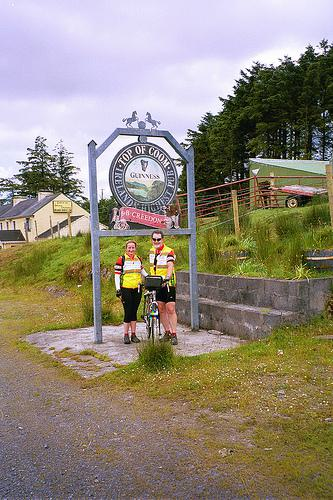car: (138, 283, 170, 347)
person: (116, 242, 151, 346), (149, 229, 179, 347)
